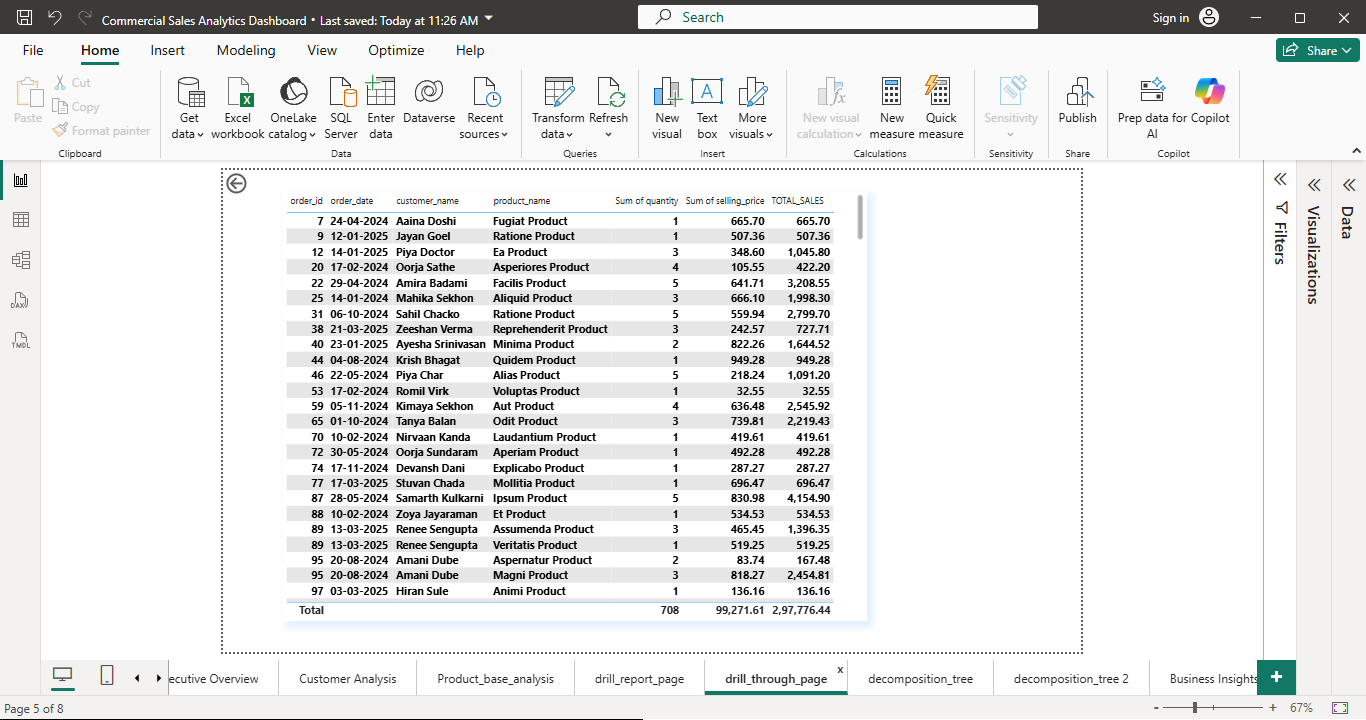

The dashboard page shown, as its layout file describes it:
{"tool":"powerbi","page":{"name":"drill_through_page","canvas":[1280,720],"ordinal":4},"visuals":[{"type":"tableEx","fields":{"Values":["delivery_partner orders.order_id","delivery_partner orders.order_date","delivery_partner customers.customer_name","delivery_partner products.product_name","Sum(delivery_partner order_items.quantity)","Sum(delivery_partner order_items.selling_price)","Measure_Table.TOTAL_SALES"]},"box":[89.3,30.7,870.7,642.4],"z":0},{"type":"actionButton","box":[0,0,100,40],"z":1000}]}

Visuals, with their boxes on the page's 1280x720 design canvas (x1, y1, x2, y2). These are canvas units, not pixel positions in the 1366x720 screenshot, which may show the page scaled, cropped or inside an application window:
tableEx - delivery_partner orders.order_id x delivery_partner orders.order_date: box=[89, 31, 960, 673]
actionButton: box=[0, 0, 100, 40]
